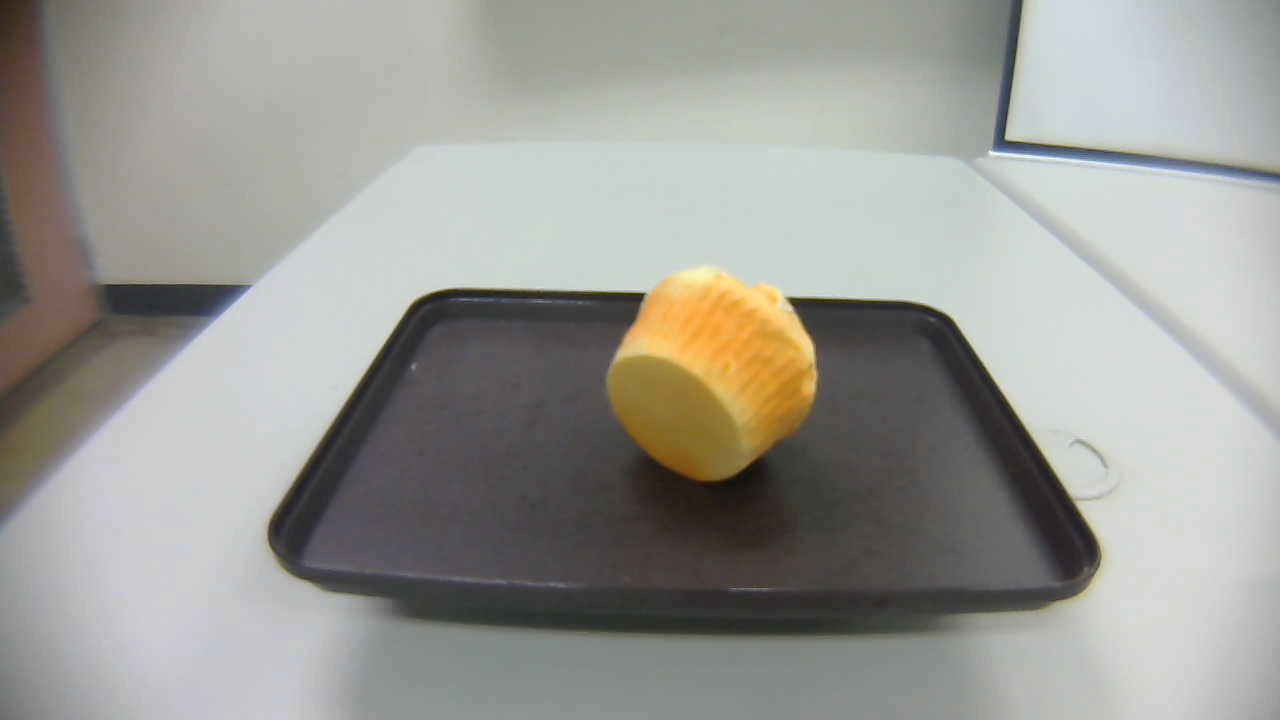cupcake: (601, 262, 819, 483)
